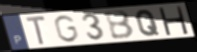3: (81, 12, 107, 42)
B: (102, 9, 136, 40)
G: (52, 14, 80, 43)
H: (157, 6, 190, 36)
Q: (135, 8, 161, 37)
T: (24, 14, 48, 47)
